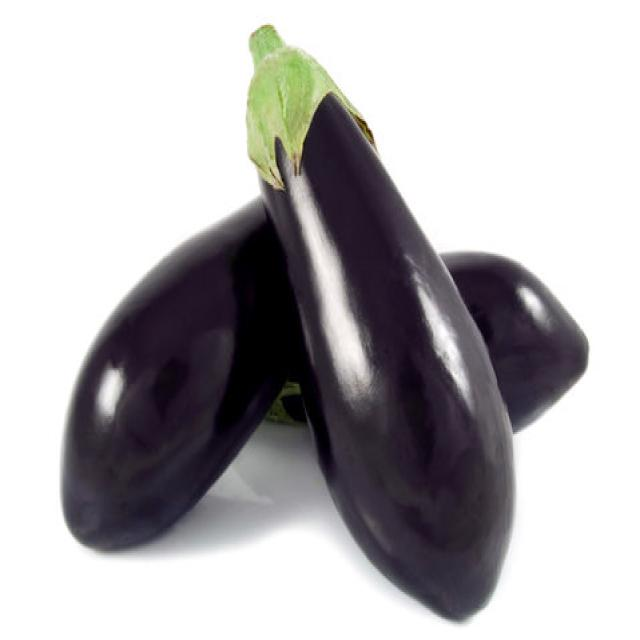Eggplant: (60, 192, 585, 553), (243, 22, 516, 622)
